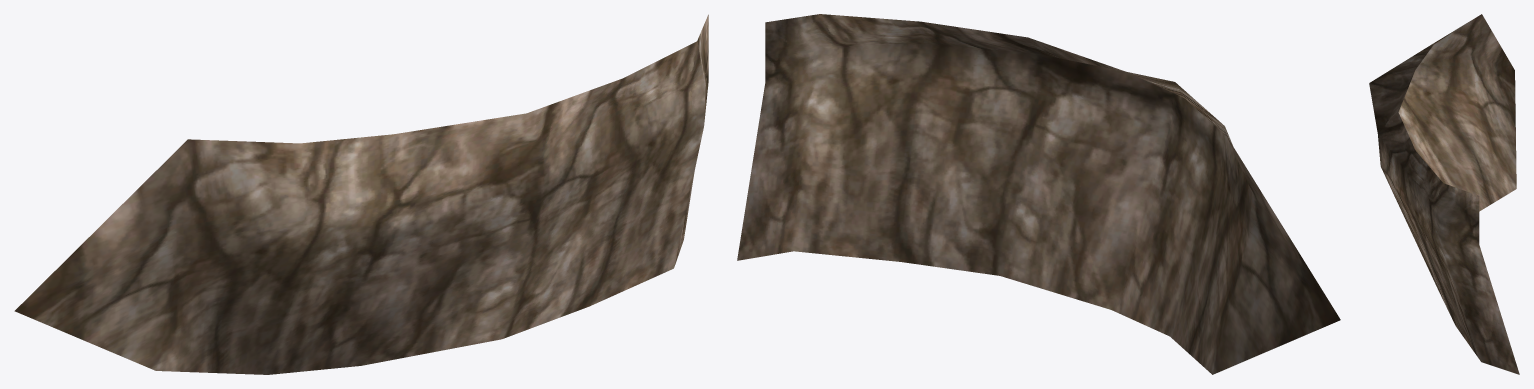
Rendered from OVERHILL_A_01_OBJECT156.fbx.
3 views of the same model, side by side, from view 1: azimuth 30°, elevation 25°; view 2: azimuth 150°, elevation 25°; view 3: azimuth 270°, elevation 25° (orthographic). The views are drawn at different scales.
Parts seen in each view (by area): view 1: OVERHILL_A_01_OBJECT156; view 2: OVERHILL_A_01_OBJECT156; view 3: OVERHILL_A_01_OBJECT156.
Boxes of the visible parts, x1,y1,x2,y2 form: OVERHILL_A_01_OBJECT156: (14,14,708,374); OVERHILL_A_01_OBJECT156: (737,14,1340,374); OVERHILL_A_01_OBJECT156: (1369,14,1519,374).
Bounding box in the file's own units: 93761 × 32935 × 25308.
1 material, 1 textured.
